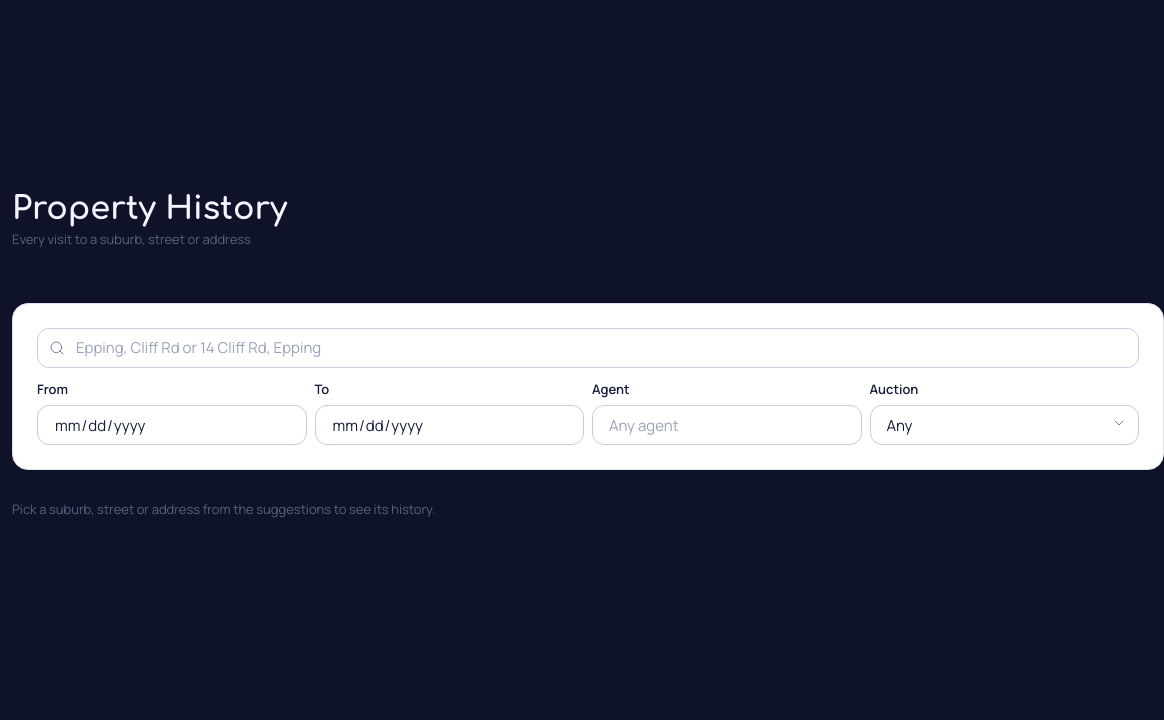
Test: Customer Property History page › gives an Account Owner Export and the Reports tab
Step 1. Type "14 cliff" into the dropdown named "Suburb, street or address" → (588, 348), box [37,328,1139,368]
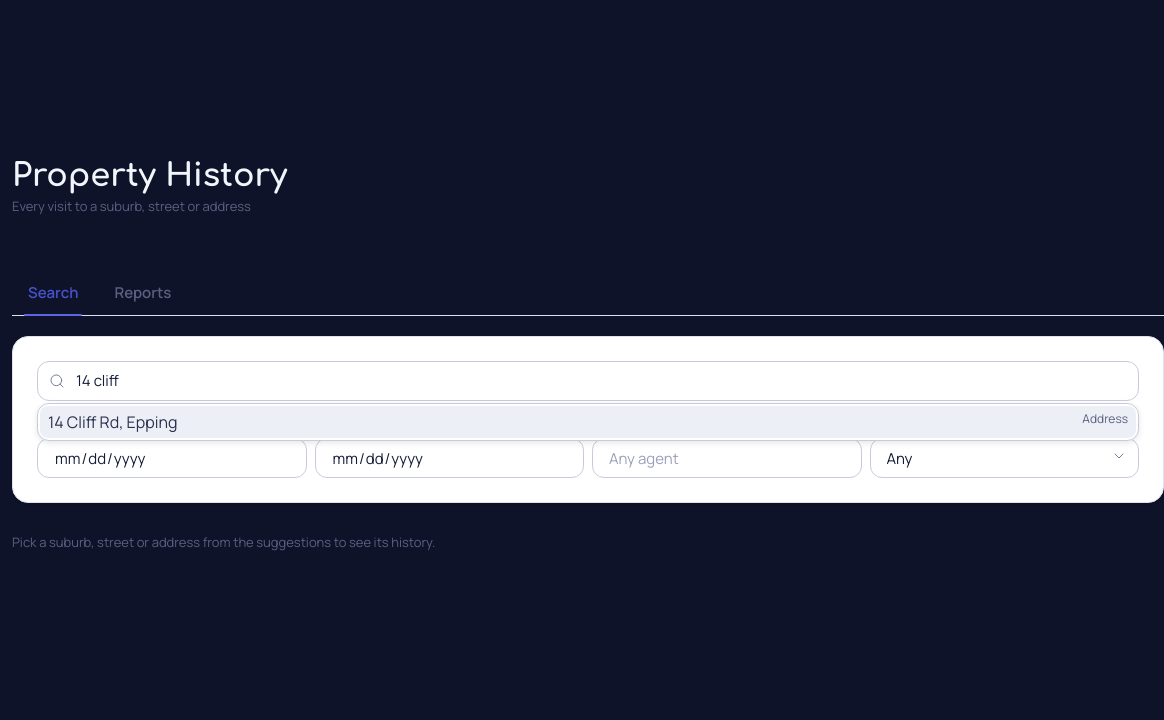
Step 2. Click the option "14 Cliff Rd, Epping Address" → (113, 422), box [40,406,1136,438]
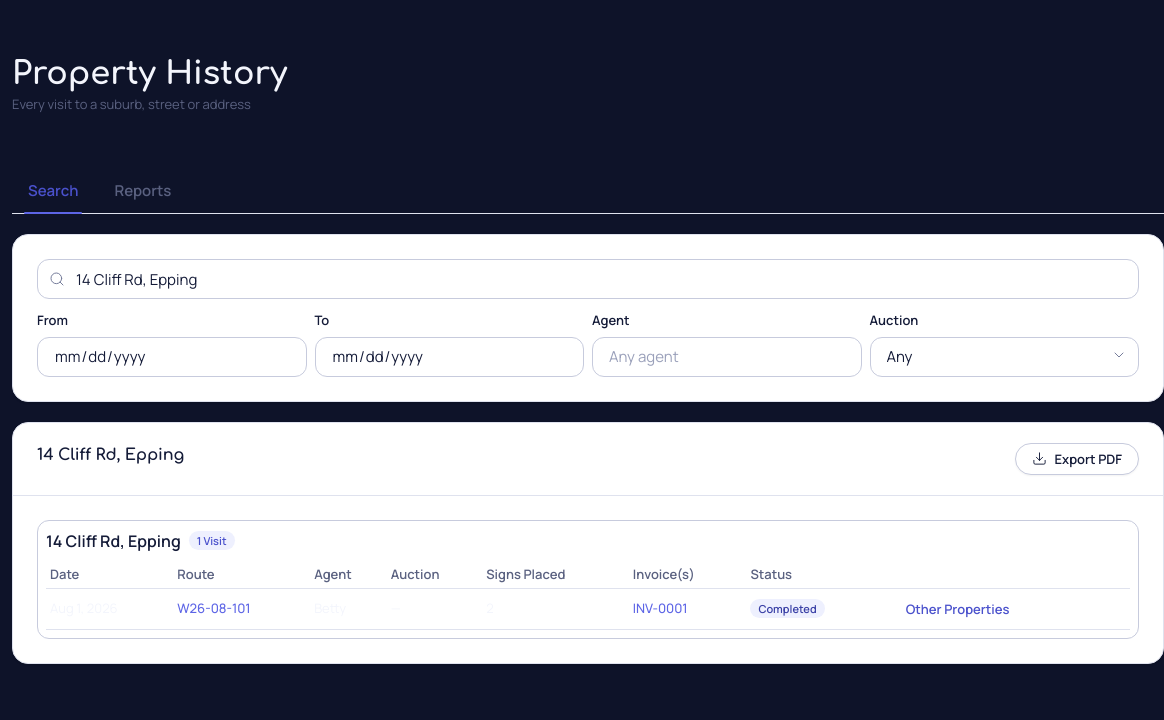
Now the button "Export PDF" is shown, box [1015,443,1139,475]
Step 3. Click the tab "Reports" → (143, 191), box [98,168,187,213]
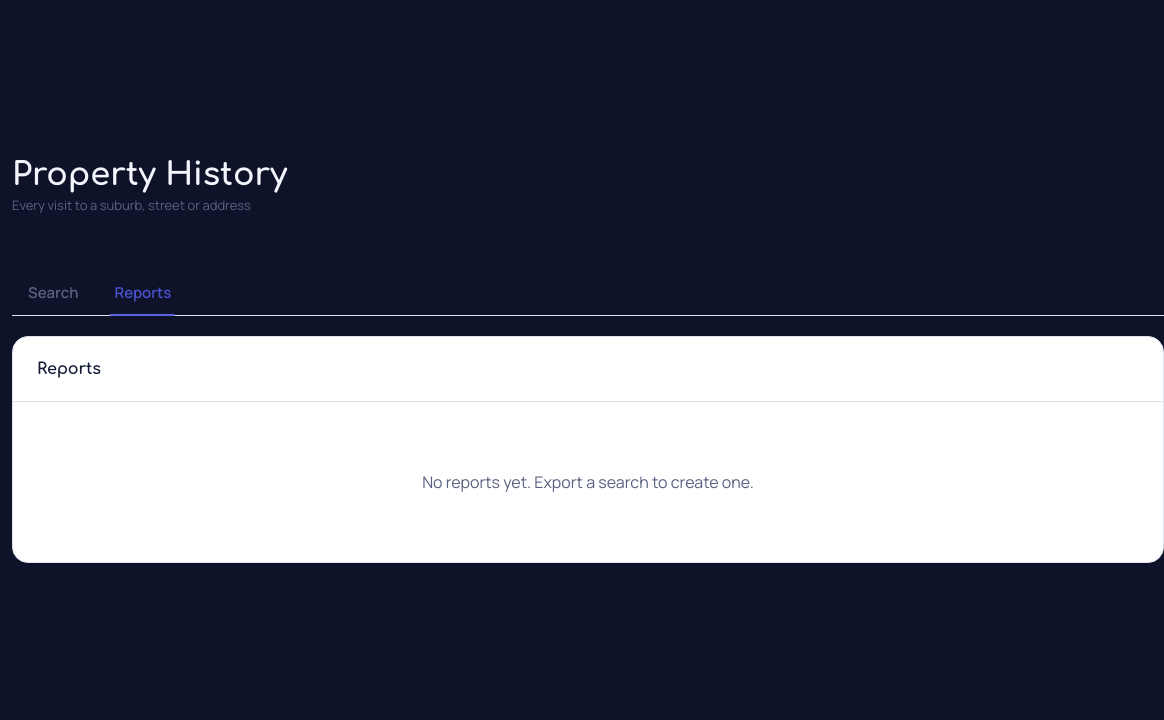
Now the text "No reports yet. Export a search to create one." is shown, box [422,471,754,493]
